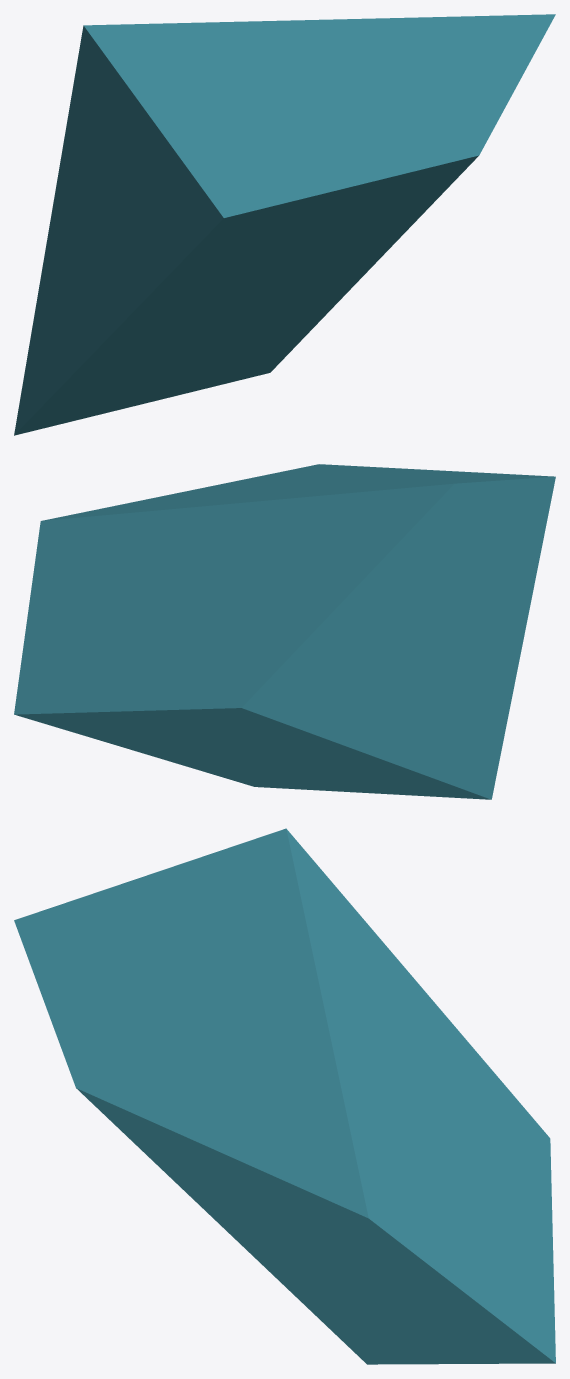
3 views of the same model, one above another, from view 1: azimuth 30°, elevation 25°; view 2: azimuth 150°, elevation 25°; view 3: azimuth 270°, elevation 25° (orthographic). The views are drawn at different scales.
Visible parts, largest first — view 1: Cube.021; view 2: Cube.021; view 3: Cube.021.
Part boxes in pixels (x1,y1,x2,y2): Cube.021: [14, 14, 555, 435]; Cube.021: [14, 464, 555, 799]; Cube.021: [14, 828, 555, 1364].
Bounding box in the file's own units: 1.21 × 0.8721 × 1.
